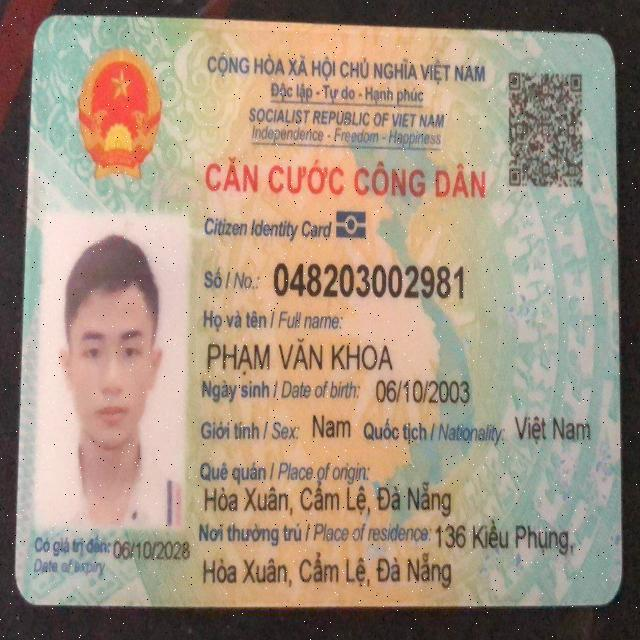current_place: (201, 550, 453, 593), (433, 517, 574, 558)
dob: (375, 377, 471, 407)
expire_date: (111, 535, 192, 565)
gender: (311, 412, 352, 442)
id: (271, 258, 467, 304)
name: (204, 334, 396, 378)
nationality: (512, 412, 592, 447)
origin_place: (202, 478, 453, 519)
